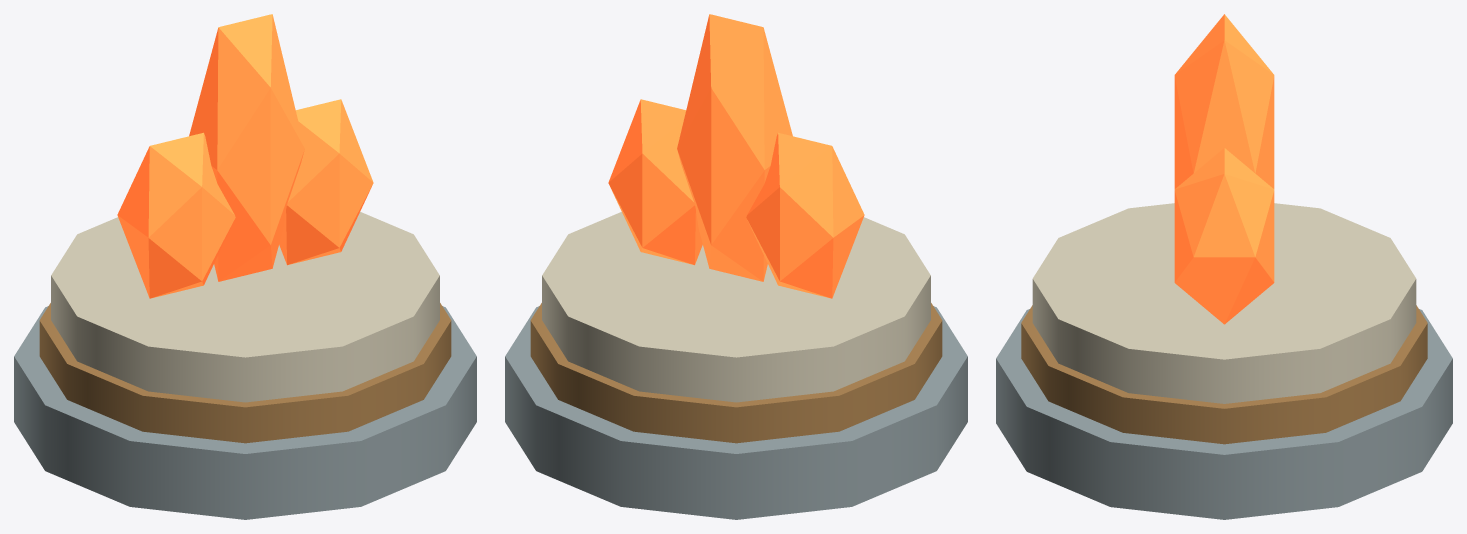
The model's file is sunfall-rift-moba-jungle-buff-altar-4a26badf__22000.glb.
3 views of the same model, side by side, from view 1: azimuth 30°, elevation 25°; view 2: azimuth 150°, elevation 25°; view 3: azimuth 270°, elevation 25° (orthographic).
Visible parts, largest first — view 1: jungle-buff-altar; view 2: jungle-buff-altar; view 3: jungle-buff-altar.
Boxes of the visible parts, x1=… form: jungle-buff-altar: x1=14, y1=14, x2=476, y2=519; jungle-buff-altar: x1=505, y1=14, x2=967, y2=519; jungle-buff-altar: x1=996, y1=14, x2=1452, y2=519.
Size of the model in its own units: 1.4 by 1.34 by 1.4.
